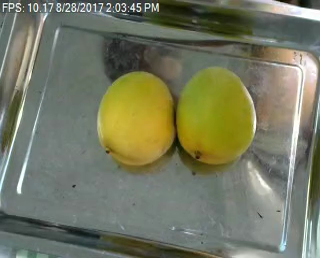Mango: (171, 62, 260, 172), (94, 66, 178, 167)
